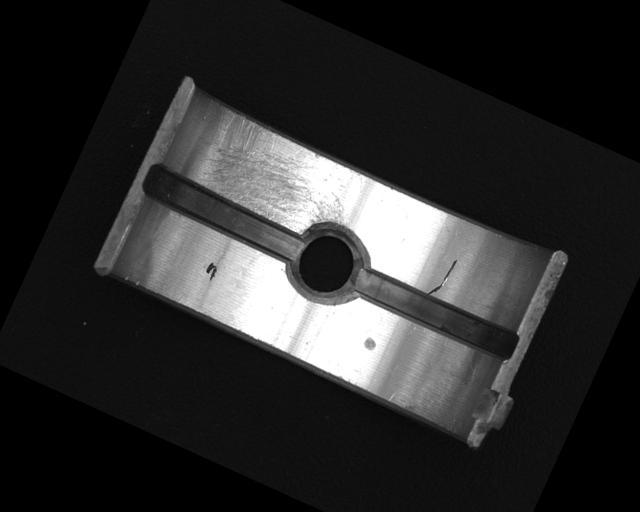blot: (202, 260, 220, 281)
bruise: (361, 335, 378, 353)
gap: (347, 261, 523, 366), (136, 162, 310, 267)
hole: (277, 210, 380, 316)
nick: (427, 254, 458, 302)
scratch: (190, 107, 369, 251)
